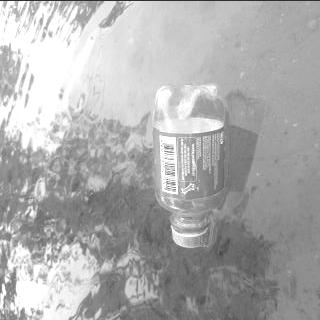bottle: (150, 81, 228, 248)
